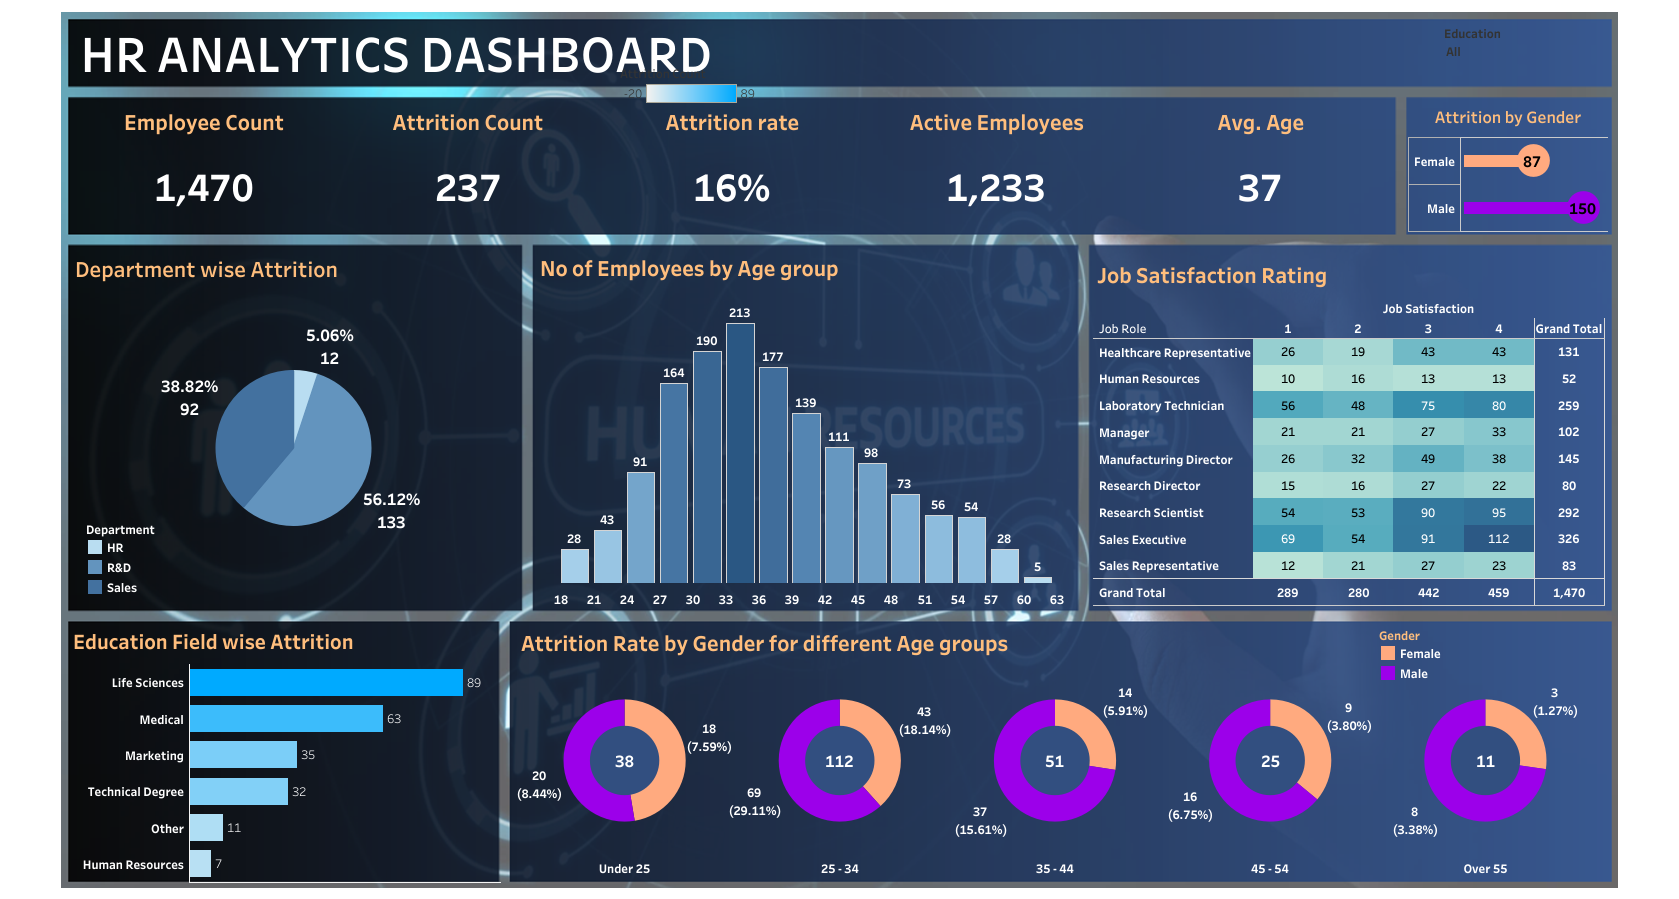

This screenshot's page, from the dashboard's own definition file:
{"tool":"tableau","page":{"name":"HR Analytics Dashboard","canvas":[1680,900],"ordinal":0},"visuals":[{"type":"image","param":"D:/Data Analytics/Data Analytics Projects/Portfolio projects/Tableau projects/HR","box":[8,8,1664,884]},{"type":"text","box":[78,23,1125,58]},{"type":"filter","title":"KPI","param":"[federated.1jcx6fq0z0b1ij19rsqne18s2c5n].[none:Education:nk]","box":[1444,23,160,59]},{"type":"legend","title":"Education Field wise Attrition","param":"[federated.1jcx6fq0z0b1ij19rsqne18s2c5n].[sum:Calculation_351562259613630464:qk]","box":[620,60,140,76]},{"type":"worksheet","title":"Attrition by Gender","mark":"Automatic","rows":["Gender"],"cols":["Calculation_351562259613630464","Calculation_351562259613630464"],"box":[1408,99,200,133]},{"type":"worksheet","title":"KPI","mark":"Automatic","box":[72,101,1321,130]},{"type":"worksheet","title":"No of Employees by Age group","mark":"Automatic","rows":["Age"],"cols":["Age (bin)"],"box":[536,247,540,360]},{"type":"worksheet","title":"Department wise Attrition","mark":"Pie","box":[71,248,445,356]},{"type":"worksheet","title":"Job Satisfaction Rating","mark":"Square","rows":["Job Role"],"cols":["Job Satisfaction"],"box":[1093,254,512,352]},{"type":"legend","title":"Department wise Attrition","param":"[federated.1jcx6fq0z0b1ij19rsqne18s2c5n].[none:Department:nk]","box":[85,518,84,78]},{"type":"worksheet","title":"Education Field wise Attrition","mark":"Automatic","rows":["Education Field"],"cols":["Calculation_351562259613630464"],"box":[69,621,431,261]},{"type":"worksheet","title":"Attrition Rate by Gender for different Age groups","mark":"Pie","rows":["Calculation_351562260015116293","Calculation_351562260015116293"],"cols":["CF_age band"],"box":[517,622,1076,255]},{"type":"legend","title":"Attrition Rate by Gender for different Age groups","param":"[federated.1jcx6fq0z0b1ij19rsqne18s2c5n].[none:Gender:nk]","box":[1378,624,140,58]}]}

Visuals, with their boxes in screenshot pixels (x1, y1, x2, y2), scaled from the page's 1680x900 canvas onto the 1679x899 screenshot:
image: {"x1": 8, "y1": 8, "x2": 1671, "y2": 891}
text: {"x1": 78, "y1": 23, "x2": 1202, "y2": 81}
"KPI" filter: {"x1": 1443, "y1": 23, "x2": 1603, "y2": 82}
"Education Field wise Attrition" legend: {"x1": 620, "y1": 60, "x2": 760, "y2": 136}
"Attrition by Gender" worksheet: {"x1": 1407, "y1": 99, "x2": 1607, "y2": 232}
"KPI" worksheet: {"x1": 72, "y1": 101, "x2": 1392, "y2": 231}
"No of Employees by Age group" worksheet: {"x1": 536, "y1": 247, "x2": 1075, "y2": 606}
"Department wise Attrition" worksheet (Pie marks): {"x1": 71, "y1": 248, "x2": 516, "y2": 603}
"Job Satisfaction Rating" worksheet (Square marks): {"x1": 1092, "y1": 254, "x2": 1604, "y2": 605}
"Department wise Attrition" legend: {"x1": 85, "y1": 517, "x2": 169, "y2": 595}
"Education Field wise Attrition" worksheet: {"x1": 69, "y1": 620, "x2": 500, "y2": 881}
"Attrition Rate by Gender for different Age groups" worksheet (Pie marks): {"x1": 517, "y1": 621, "x2": 1592, "y2": 876}
"Attrition Rate by Gender for different Age groups" legend: {"x1": 1377, "y1": 623, "x2": 1517, "y2": 681}
